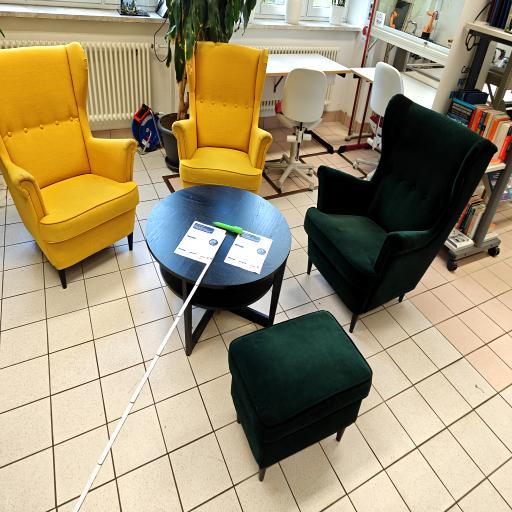Probe-Detection: (213, 222, 242, 234)
